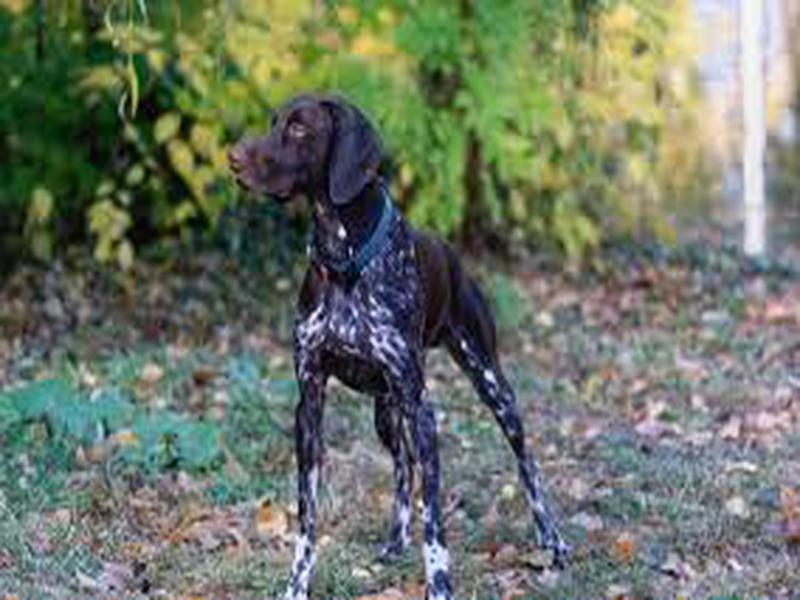dog_stand: (225, 86, 577, 600)
